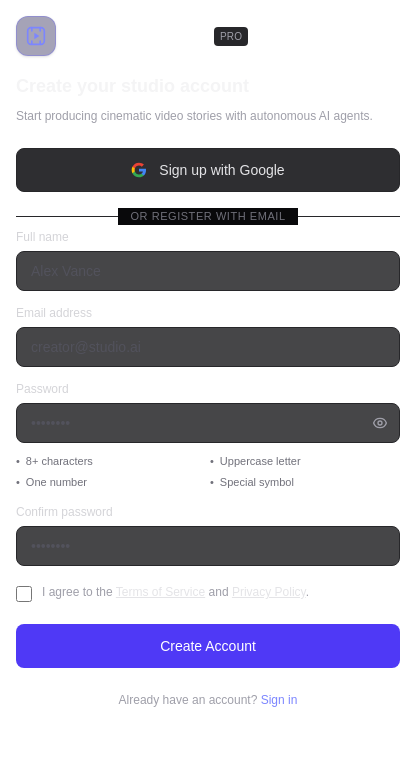
Test case: SignupForm › validates empty submission
The image size is (417, 784).
Click the button "Create Account" at point(208, 646), box left=16, top=624, right=400, bottom=668
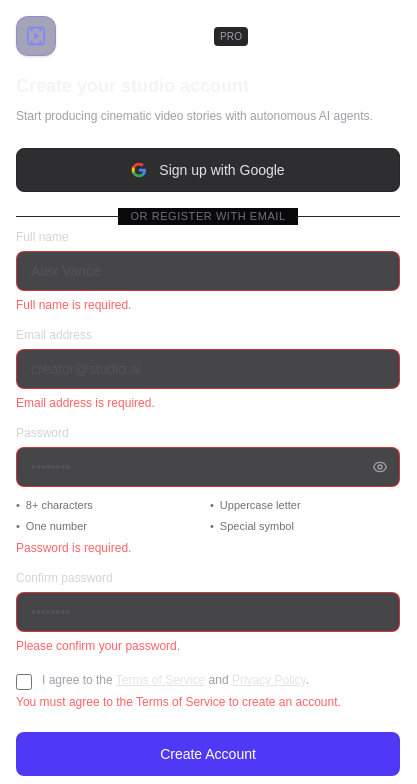
Now the text "Full name is required." is shown, box left=16, top=298, right=131, bottom=312
Now the text "Email address is required." is shown, box left=16, top=396, right=155, bottom=410
Now the text "Password is required." is shown, box left=16, top=541, right=131, bottom=555
